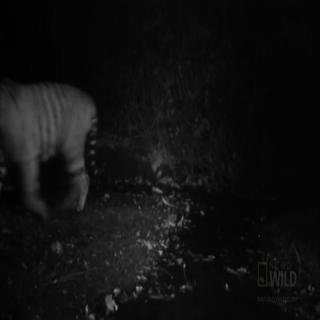Tiger: (0, 63, 111, 221)
